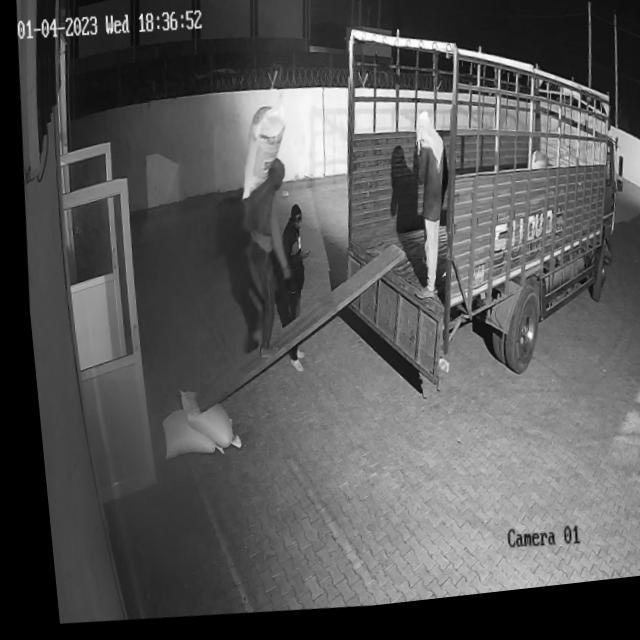sack: (232, 109, 288, 205), (168, 386, 235, 458), (150, 407, 216, 462)
